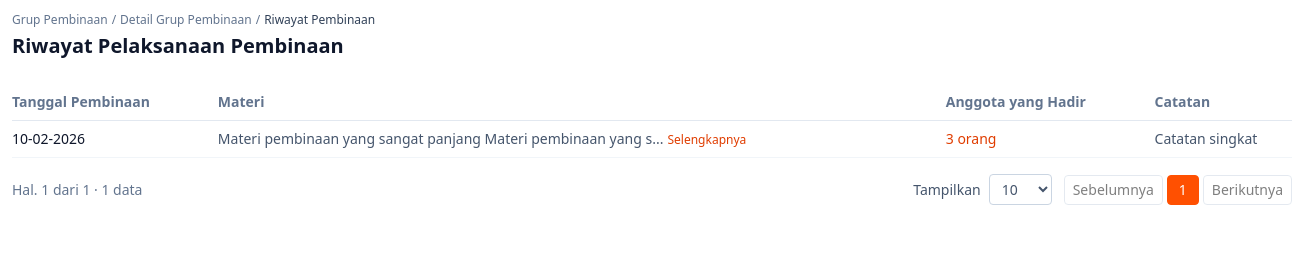
Test: GroupHistoryPage › keeps attendees without a cadre profile (TARBS-only user) visible
Click the button "3 orang": (971, 139) [946,129,996,149]
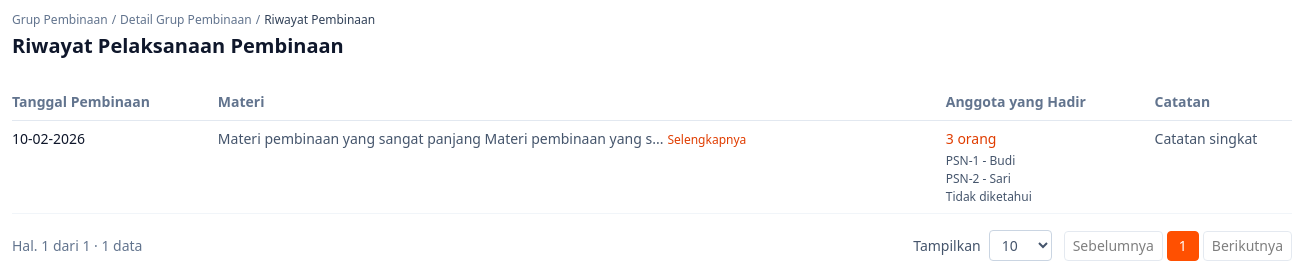
Expected: the text "Tidak diketahui" is shown, [946,188,1032,205]
